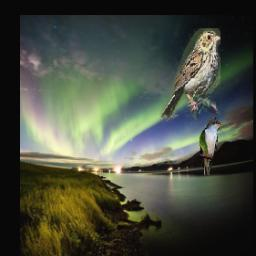Cuckoo: (200, 119, 223, 176)
Sparrow: (160, 28, 221, 124)
